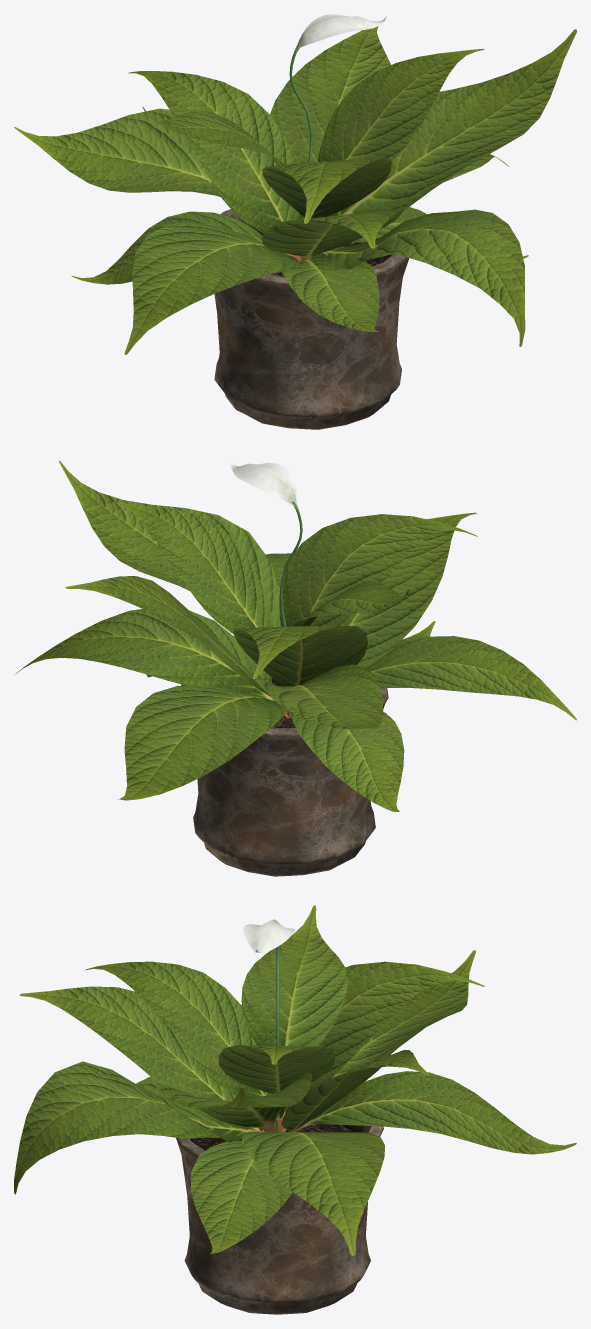
The model's file is uploads_files_2874941_InteriorPlant_low_FBX.fbx.
The picture shows the model from 3 angles, top to bottom: view 1: azimuth 30°, elevation 25°; view 2: azimuth 150°, elevation 25°; view 3: azimuth 270°, elevation 25°; orthographic projection. The views are drawn at different scales.
Parts seen in each view (by area): view 1: Interiorlant_low; view 2: Interiorlant_low; view 3: Interiorlant_low.
Boxes of the visible parts, x1,y1,x2,y2 form: Interiorlant_low: (14, 14, 576, 429); Interiorlant_low: (14, 459, 576, 876); Interiorlant_low: (14, 905, 576, 1314).
Bounding box in the file's own units: 56.5 × 41.75 × 57.
